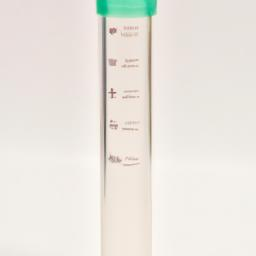Test tube: (86, 1, 159, 251)
